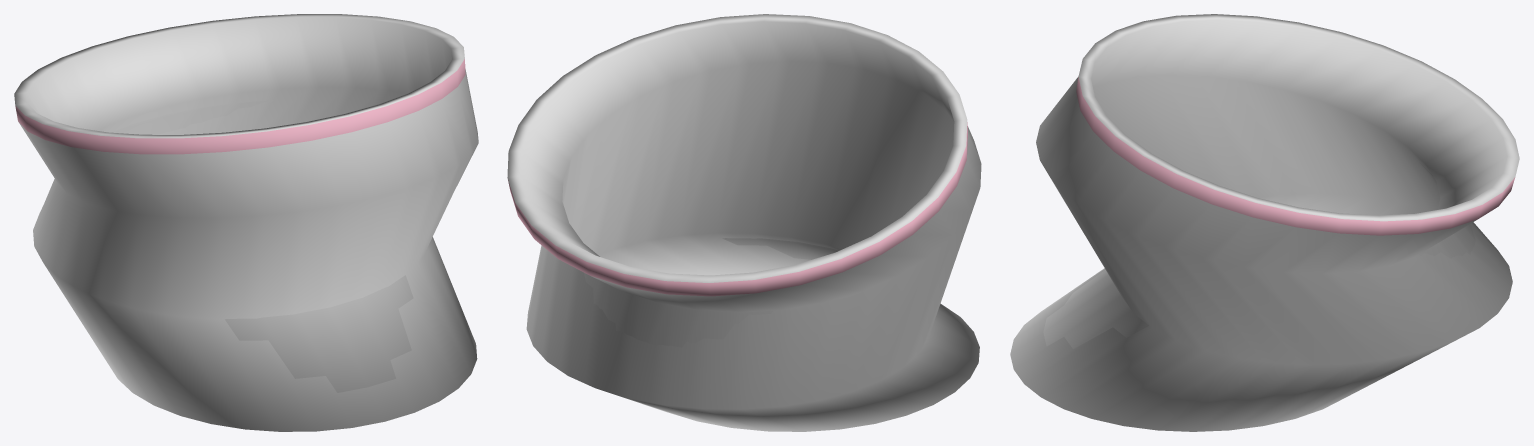
The model's file is cupUnisten2.fbx.
3 renders of one model, left to right at view 1: azimuth 30°, elevation 25°; view 2: azimuth 150°, elevation 25°; view 3: azimuth 270°, elevation 25°, orthographic. The views are drawn at different scales.
Visible parts, largest first — view 1: Cup.001; view 2: Cup.001; view 3: Cup.001.
Boxes of the visible parts, x1,y1,x2,y2 form: Cup.001: (14,14,478,431); Cup.001: (507,14,981,431); Cup.001: (1010,14,1519,431).
Bounding box in the file's own units: 151 × 103 × 171.
